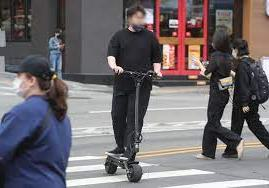nonhelmet: (102, 5, 163, 182)
